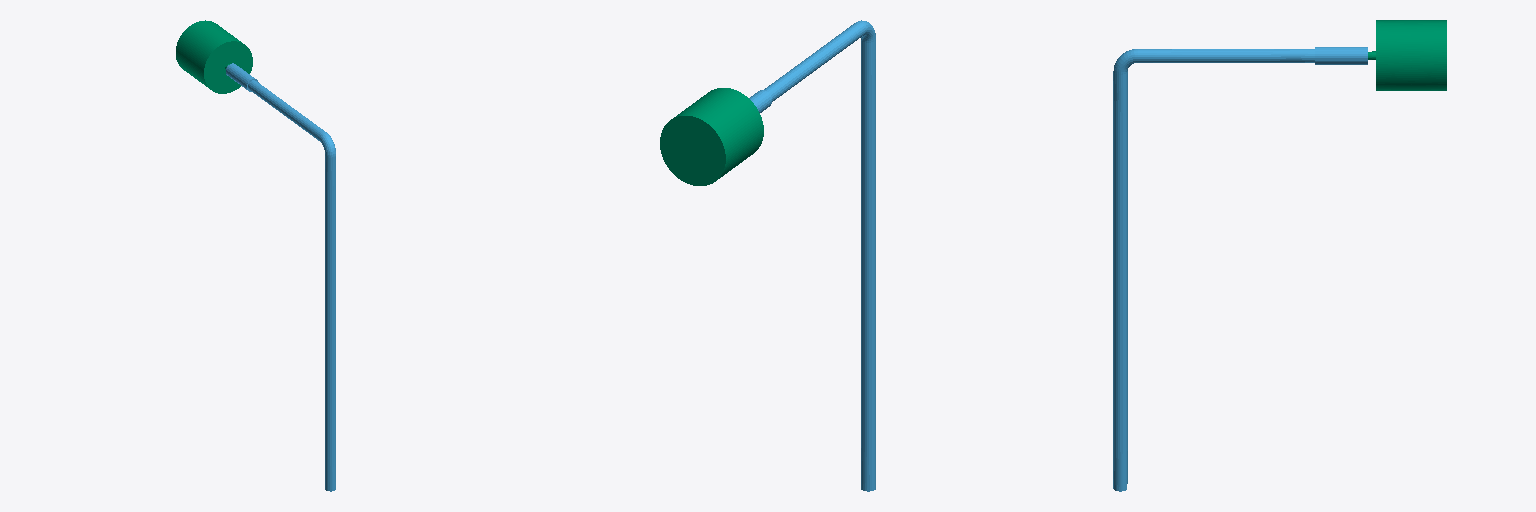
robot.urdf — Pendel:
<?xml version="1.0" encoding="UTF-8"?>
<robot name="Pendel">

    <mujoco>
        <compiler balanceinertia="true"/>
    </mujoco>

    <link name="base_link">
        <inertial>
            <origin xyz="0.0 0.0 0.155011" rpy="0 0 0"/> 
            
            <mass value="11.924987"/>
            
            <inertia ixx="0.1004" 
                     iyy="0.1004" 
                     izz="0.009738" 
                     ixy="0.0" 
                     ixz="-5.925e-17" 
                     iyz="0.0"/>
        </inertial>
        
        <visual>
            <origin xyz="0 0 0" rpy="0 0 0"/>
            <geometry>
                <mesh filename="../meshes/base_link.stl" scale="0.001 0.001 0.001"/>
            </geometry>
            <material name="silver"/>
        </visual>
        <collision>
            <origin xyz="0 0 0" rpy="0 0 0"/>
            <geometry>
                <mesh filename="../meshes/base_link.stl" scale="0.001 0.001 0.001"/>
            </geometry>
        </collision>
    </link>

    <link name="Pendel_1">
        <inertial>
            <origin xyz="1.43e-13 -0.139956 0.249946" rpy="0 0 0"/> 
            
            <mass value="0.035417"/>
            
            <inertia ixx="0.00036" 
                     iyy="0.0002861" 
                     izz="0.000074296"
                     ixy="-2.716e-16" 
                     ixz="5.756e-16" 
                     iyz="-0.00008869"/>
        </inertial>
        
        <visual>
            <origin xyz="-0.0 0.0295 -0.335002" rpy="0 0 0"/>
            <geometry>
                <mesh filename="../meshes/Pendel_1.stl" scale="0.001 0.001 0.001"/>
            </geometry>
            <material name="silver"/>
        </visual>
        <collision>
            <origin xyz="-0.0 0.0295 -0.335002" rpy="0 0 0"/>
            <geometry>
                <mesh filename="../meshes/Pendel_1.stl" scale="0.001 0.001 0.001"/>
            </geometry>
        </collision>
    </link>

    <link name="Encoder_1">
        <inertial>
            <origin xyz="-1.742e-08 -0.005037 0.335009" rpy="0 0 0"/>
            
            <mass value="0.053345"/>
            
            <inertia ixx="1.24655e-05" 
                     iyy="1.0649e-05" 
                     izz="1.2473e-05" 
                     ixy="5e-12" 
                     ixz="-1.8e-11" 
                     iyz="-1.938e-09"/>
        </inertial>
        
        <visual>
            <origin xyz="-0.0 -0.0 -0.316" rpy="0 0 0"/>
            <geometry>
                <mesh filename="../meshes/Encoder_1.stl" scale="0.001 0.001 0.001"/>
            </geometry>
            <material name="silver"/>
        </visual>
        <collision>
            <origin xyz="-0.0 -0.0 -0.316" rpy="0 0 0"/>
            <geometry>
                <mesh filename="../meshes/Encoder_1.stl" scale="0.001 0.001 0.001"/>
            </geometry>
        </collision>
    </link>

    <joint name="pendelGelenk" type="continuous">
        <origin xyz="0.0 -0.0295 0.019002" rpy="0 0 0"/>
        <parent link="Encoder_1"/>
        <child link="Pendel_1"/>
        <axis xyz="0.0 -1.0 0.0"/>
    </joint>

    <joint name="rotaryGelenk" type="revolute">
        <origin xyz="0.0 0.0 0.316" rpy="0 0 0"/>
        <parent link="base_link"/>
        <child link="Encoder_1"/>
        <axis xyz="0.0 0.0 1.0"/>
        <limit upper="6.283185" lower="-6.283185" effort="100" velocity="100"/>
    </joint>

</robot>

--- Render facts (derived) ---
3 views of the same robot in one strip: view 1: azimuth 30°, elevation 25°; view 2: azimuth 150°, elevation 25°; view 3: azimuth 270°, elevation 25° (orthographic).
Model Pendel with 3 links and 2 joints (1 revolute, 1 continuous), rooted at base_link, posed every joint at zero.
Visible links, largest first — view 1: Pendel_1, Encoder_1; view 2: Pendel_1, Encoder_1; view 3: Pendel_1, Encoder_1.
Link boxes in pixels (x1,y1,x2,y2): Pendel_1: (226, 63, 335, 491); Encoder_1: (176, 20, 252, 93); Pendel_1: (749, 20, 875, 491); Encoder_1: (660, 88, 763, 185); Pendel_1: (1113, 47, 1367, 491); Encoder_1: (1368, 20, 1446, 90).
Size in the robot's own frame: 0.04 by 0.1884 by 0.2899 metres.
Meshes: 3 distinct files referenced, 2 mesh visuals loaded (2 binary STL); not drawn: 1 (reference not matched to a file when rendering).